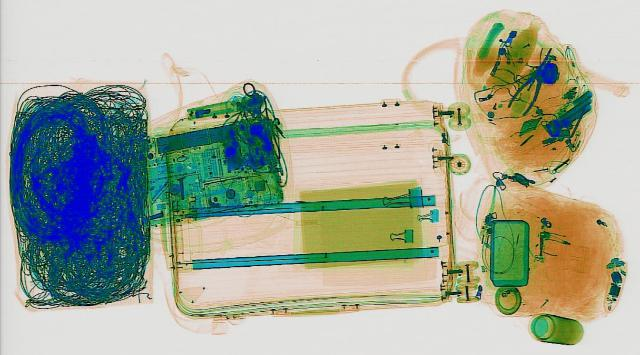Pliers: (502, 55, 558, 115)
